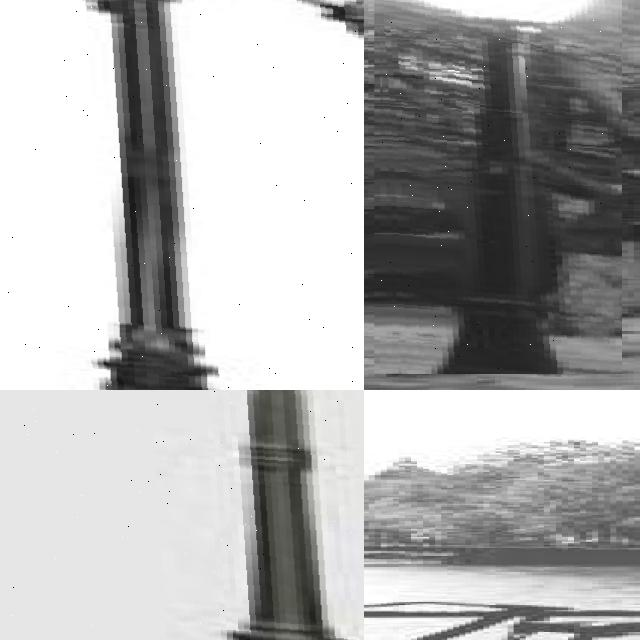street light: (0, 0, 364, 390), (374, 0, 621, 373), (8, 390, 364, 640)
